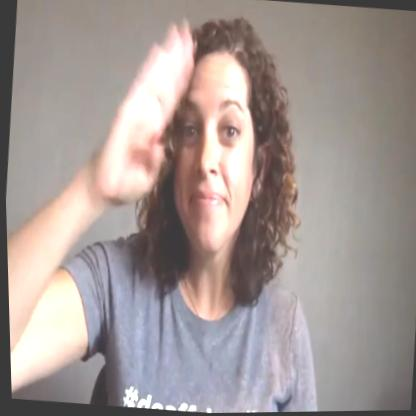Hello: (40, 0, 310, 306)
